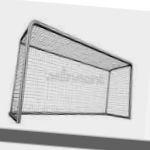goals: (7, 18, 136, 124)
